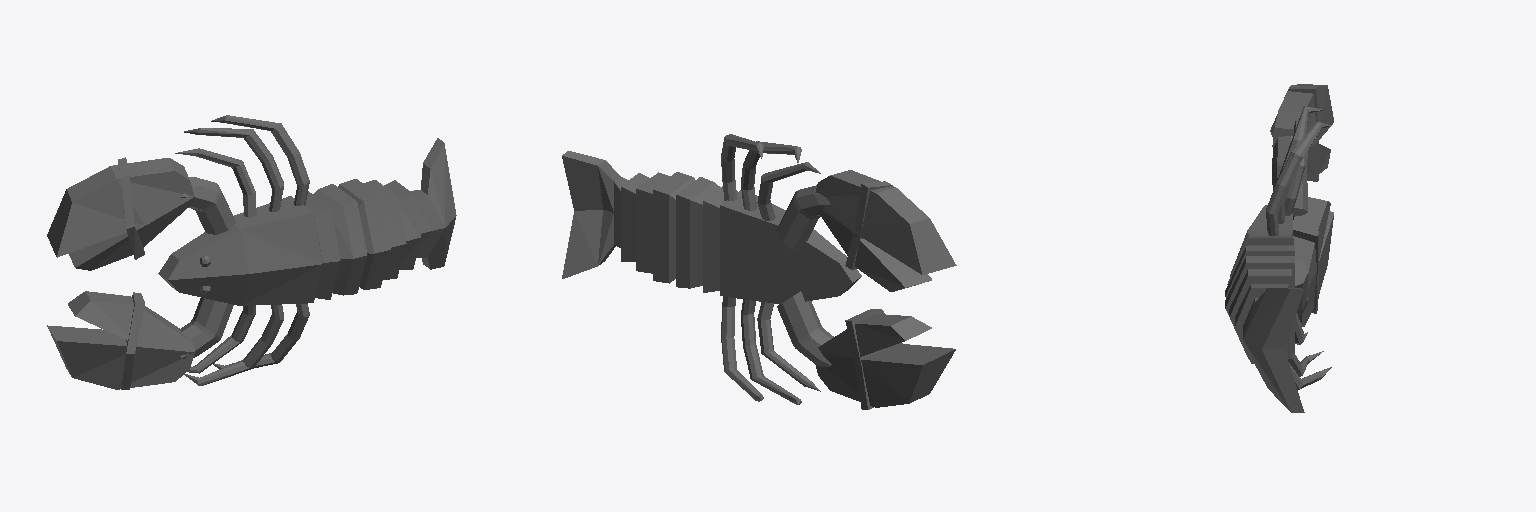
The model's file is Lobster.obj.
3 renders of one model, left to right at view 1: azimuth 30°, elevation 25°; view 2: azimuth 150°, elevation 25°; view 3: azimuth 270°, elevation 25°, orthographic.
Parts seen in each view (by area): view 1: Lobster; view 2: Lobster; view 3: Lobster.
Boxes of the visible parts, box(x1,y1,x2,y2) form: Lobster: box(47, 115, 456, 389); Lobster: box(562, 134, 956, 409); Lobster: box(1225, 84, 1333, 412).
Size of the model in its own units: 29.87 by 19.03 by 7.27.